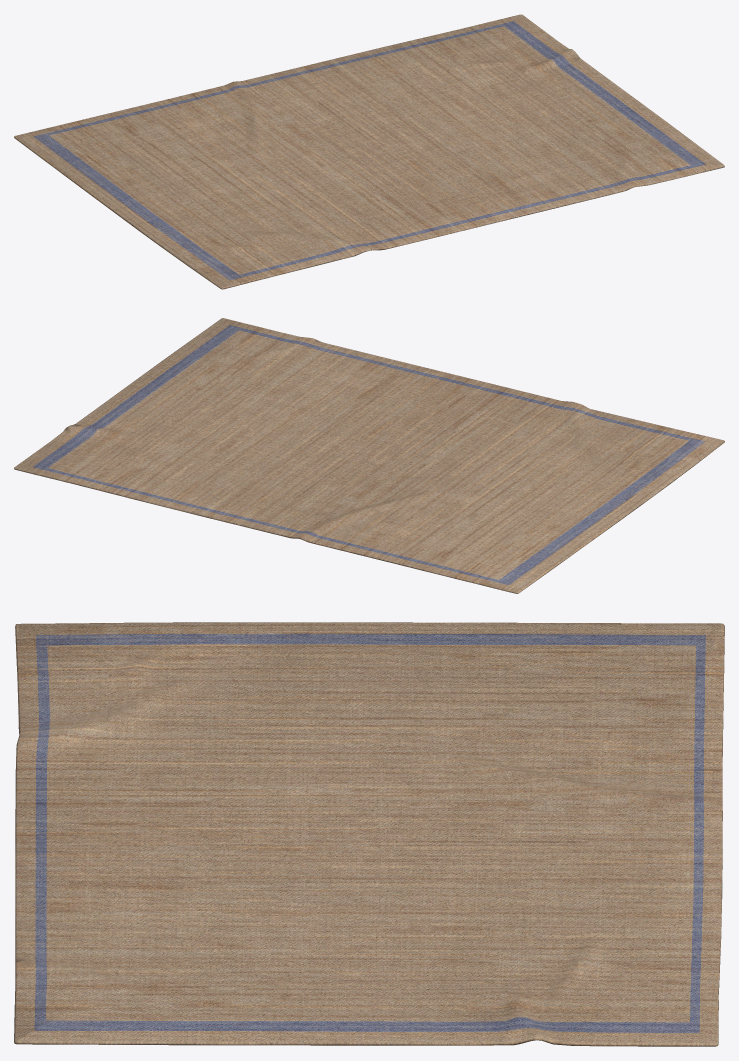
Rendered from Carpet.FBX.
The picture shows the model from 3 angles, top to bottom: view 1: azimuth 30°, elevation 25°; view 2: azimuth 150°, elevation 25°; view 3: azimuth 270°, elevation 25°; orthographic projection. The views are drawn at different scales.
Parts seen in each view (by area): view 1: carpet; view 2: carpet; view 3: carpet.
Boxes of the visible parts, x1,y1,x2,y2 form: carpet: [14, 14, 724, 289]; carpet: [14, 318, 724, 593]; carpet: [14, 622, 724, 1046].
Bounding box in the file's own units: 197 × 1.78 × 140.
1 material, 1 textured.
